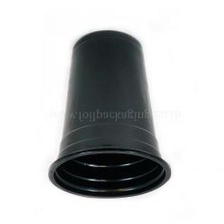glass: (40, 19, 180, 204)
